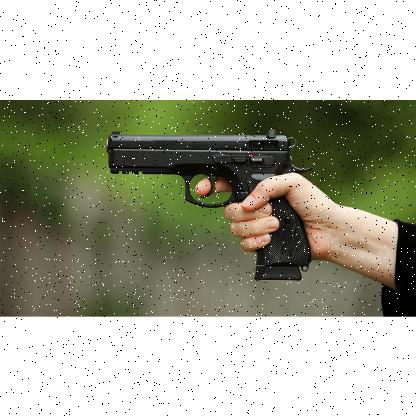gun: (105, 128, 311, 282)
